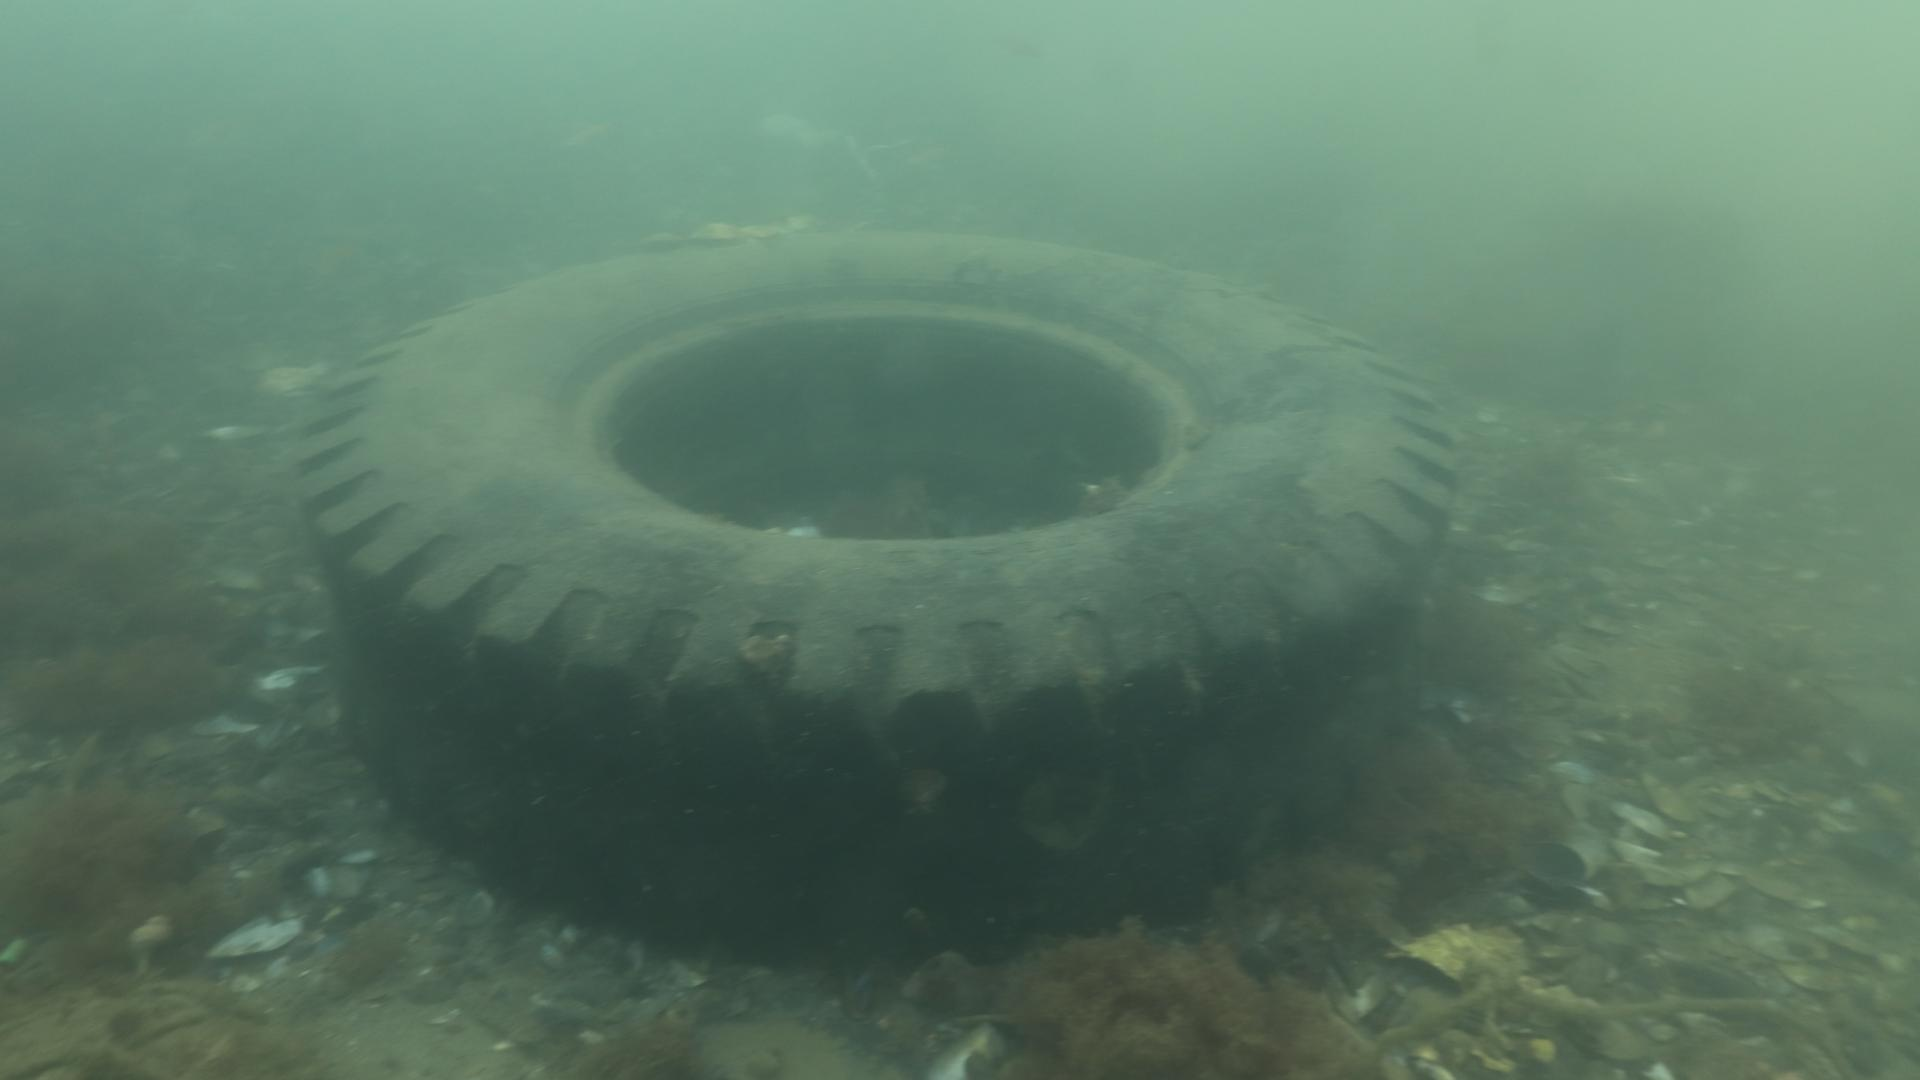tire: (295, 229, 1464, 968)
